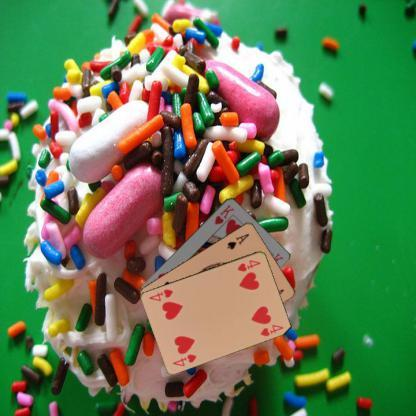4h: (234, 257, 262, 273), (170, 352, 198, 368)
As: (225, 230, 251, 250)
Kh: (212, 202, 235, 226)
